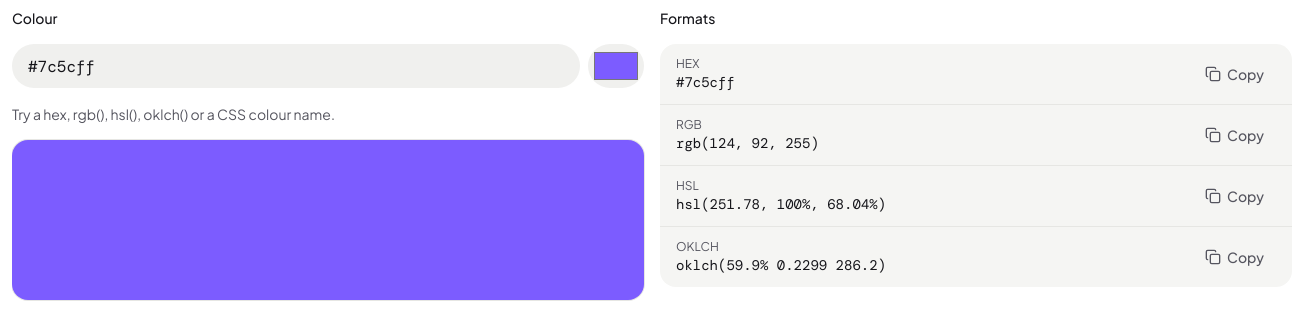
Test case: <ColorConverterTool /> › should convert what the user types and keep the last good colour
The width and height of the screenshot is (1292, 318).
Type "rebeccapurple" into the field named "Colour" at (296, 66), box [12,44,580,88]
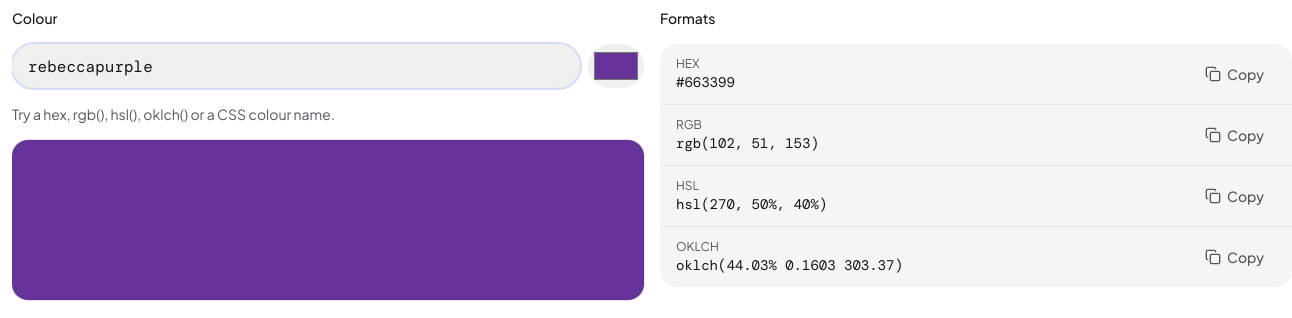
Check: the text "rgb(102, 51, 153)" is shown, box [676,133,819,153]
Type "!" into the field named "Colour" at (296, 66), box [12,44,580,88]
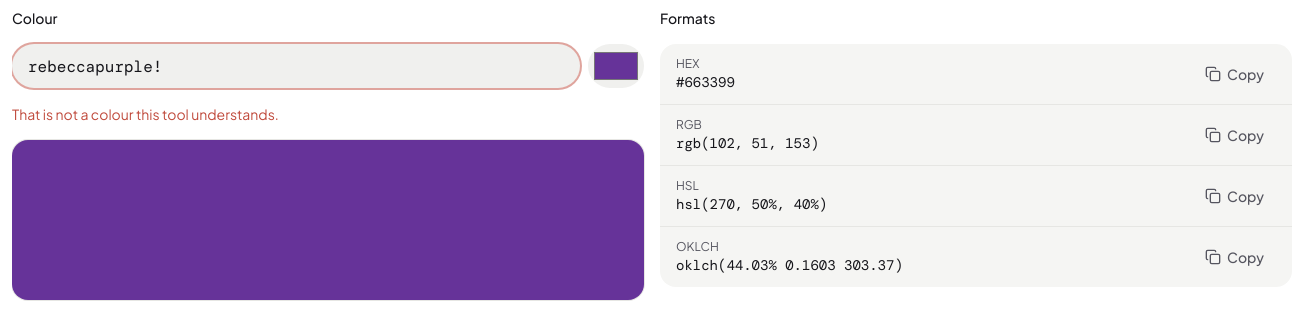
Check: the text "rgb(102, 51, 153)" is shown, box [676,133,819,153]
Check: the text "That is not a colour this tool understands." is shown, box [12,105,279,123]
